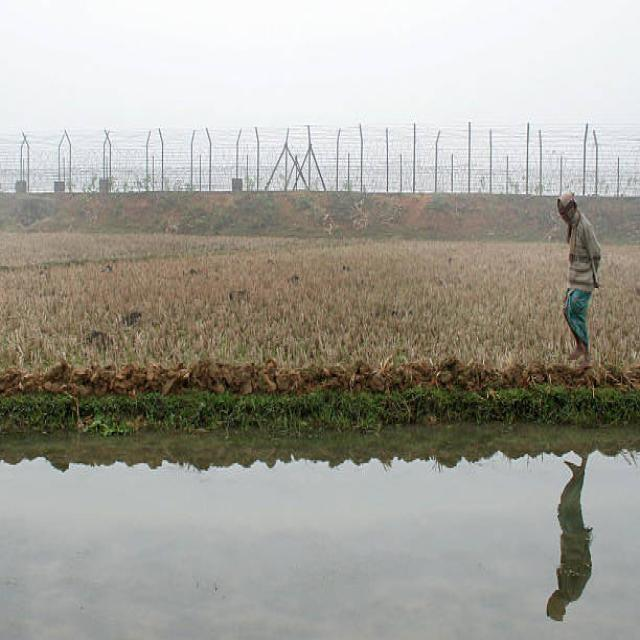civilian: (557, 192, 600, 365)
